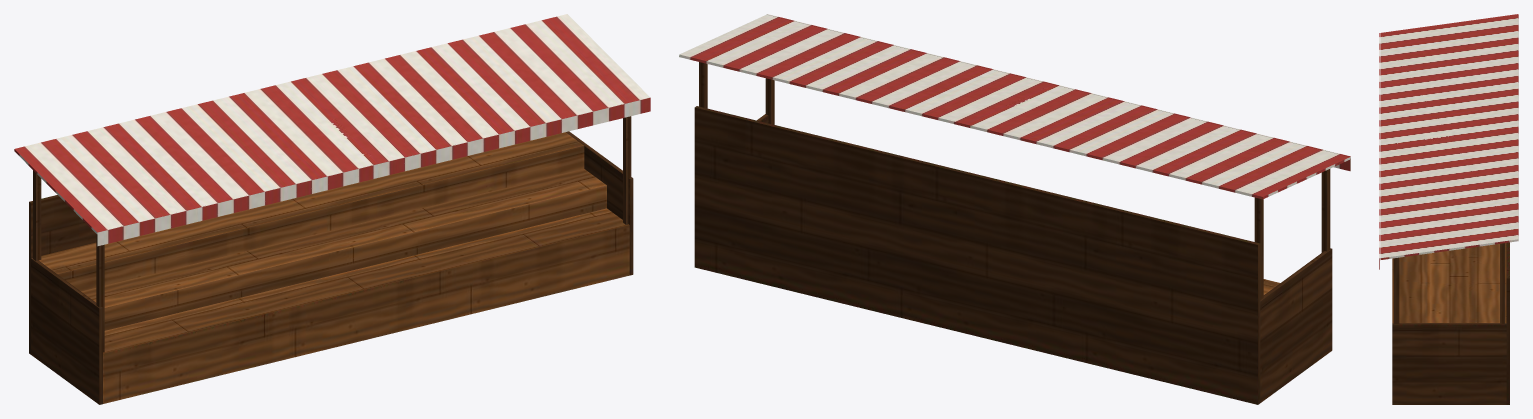
File: viewing_stand.glb
3 renders of one model, left to right at view 1: azimuth 30°, elevation 25°; view 2: azimuth 150°, elevation 25°; view 3: azimuth 270°, elevation 25°, orthographic. The views are drawn at different scales.
Visible parts, largest first — view 1: props_0_0; view 2: props_0_0; view 3: props_0_0.
Boxes of the visible parts, <box> form: props_0_0: <box>14,14,650,404</box>; props_0_0: <box>679,14,1350,404</box>; props_0_0: <box>1379,14,1518,404</box>.
Bounding box in the file's own units: 12.6 × 4.42 × 3.3.
1 material, 1 textured.
